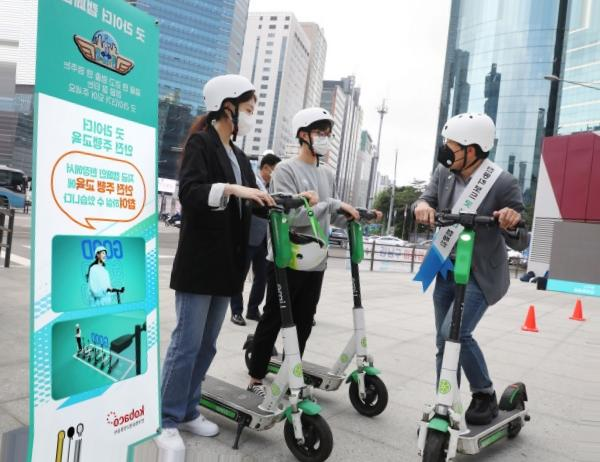scooter: (392, 205, 533, 462), (243, 207, 390, 418)
with helmet: (202, 68, 259, 141), (436, 111, 495, 173), (293, 105, 333, 158)
